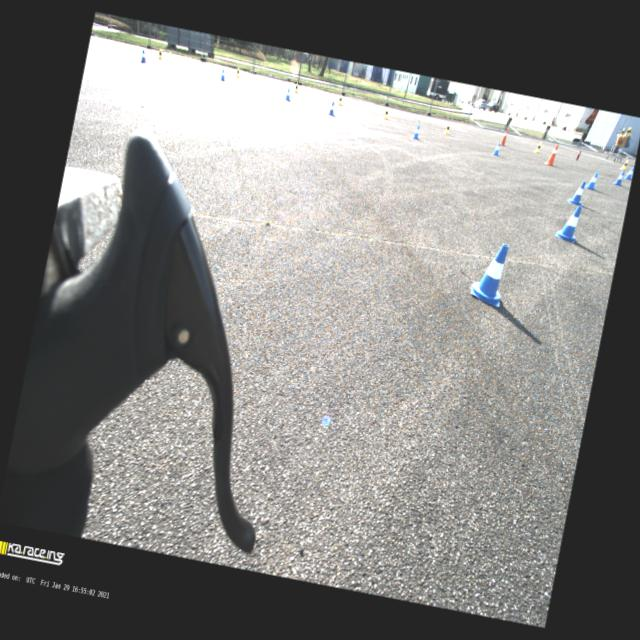blue_cone: (468, 239, 512, 307), (554, 203, 582, 243), (566, 179, 586, 205), (584, 170, 598, 190), (612, 169, 625, 186), (492, 141, 502, 157), (412, 124, 422, 140), (623, 166, 634, 180), (140, 49, 149, 64), (328, 102, 337, 116), (285, 88, 293, 102), (220, 68, 227, 82)
large_orange_cone: (544, 142, 560, 167), (499, 128, 508, 147)
yellow_cone: (618, 158, 628, 170), (534, 142, 542, 154), (444, 123, 452, 135), (382, 108, 390, 120), (294, 82, 301, 94), (158, 48, 165, 60), (337, 95, 344, 106), (236, 67, 242, 79), (620, 127, 625, 137), (624, 128, 630, 136), (628, 126, 632, 136)
